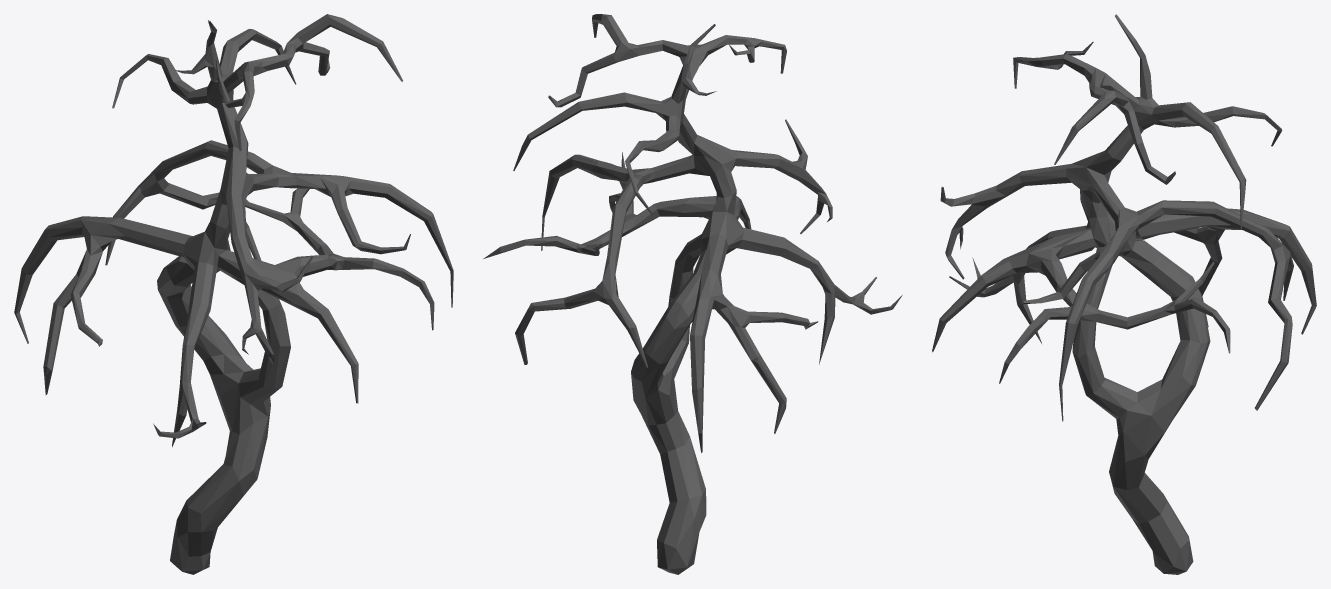
The model's file is HWN20_Tree_08.gltf.
The picture shows the model from 3 angles, left to right: view 1: azimuth 30°, elevation 25°; view 2: azimuth 150°, elevation 25°; view 3: azimuth 270°, elevation 25°; orthographic projection. The views are drawn at different scales.
Parts seen in each view (by area): view 1: HWN20_Tree_08_glb; view 2: HWN20_Tree_08_glb; view 3: HWN20_Tree_08_glb.
Part boxes in pixels (x1,y1,x2,y2): HWN20_Tree_08_glb: (14,14,453,574); HWN20_Tree_08_glb: (483,14,902,574); HWN20_Tree_08_glb: (932,14,1316,574).
Size of what is drawn, in the model's own units: 4.17 by 6.63 by 4.18.
Materials: 1 (1 with a texture image).
